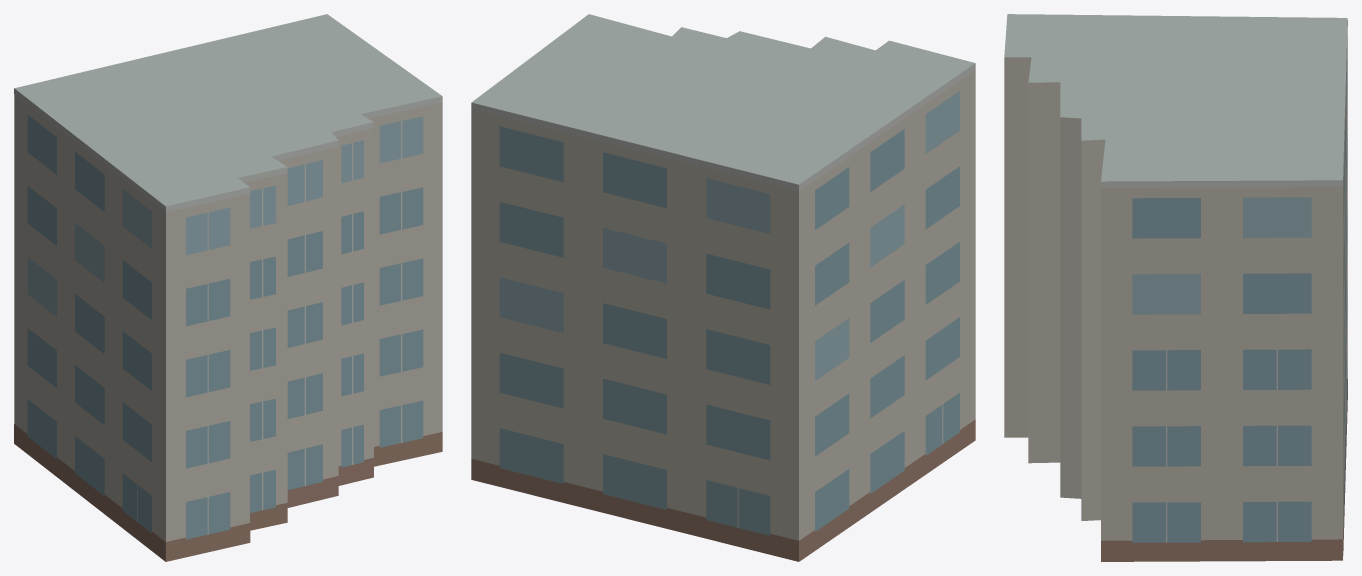
File: survey-upis-32632381.glb
The picture shows the model from 3 angles, left to right: view 1: azimuth 30°, elevation 25°; view 2: azimuth 150°, elevation 25°; view 3: azimuth 270°, elevation 25°; orthographic projection. The views are drawn at different scales.
Parts seen in each view (by area): view 1: survey-upis-32632381.tmp; view 2: survey-upis-32632381.tmp; view 3: survey-upis-32632381.tmp.
Part boxes in pixels (box(x1,y1,x2,y2)): survey-upis-32632381.tmp: box(14, 14, 442, 561); survey-upis-32632381.tmp: box(471, 14, 975, 561); survey-upis-32632381.tmp: box(1004, 14, 1347, 561).
Bounding box in the file's own units: 13.23 × 14 × 11.47.
